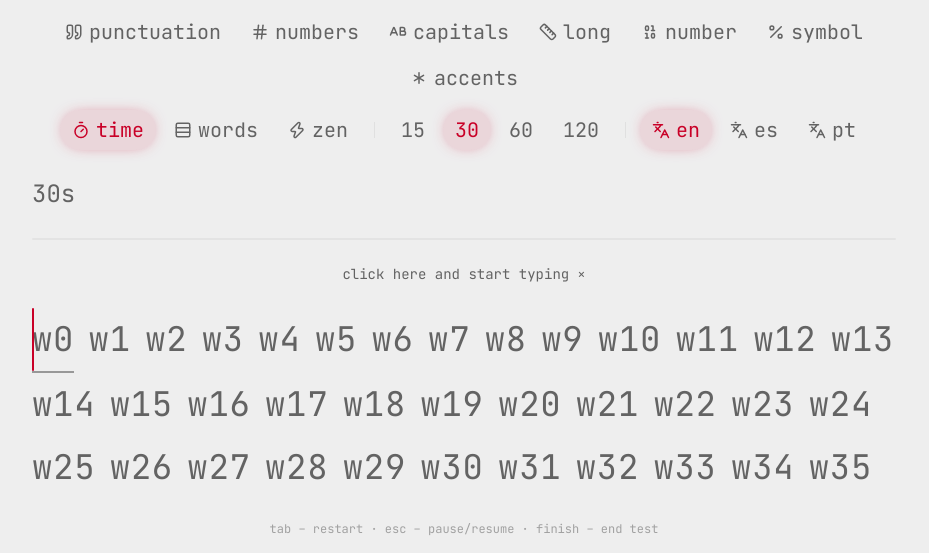
Test: TypingTest › jumps back to the previous word when pressing Backspace on an empty input
Click the button "words": (216, 130) [162,110,270,150]
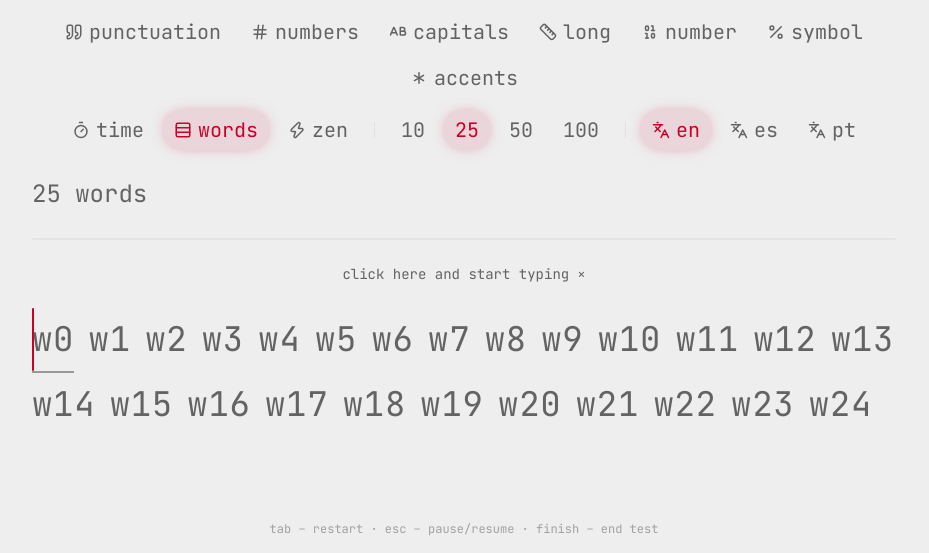
Click the button "10": (413, 130) [389,110,437,150]
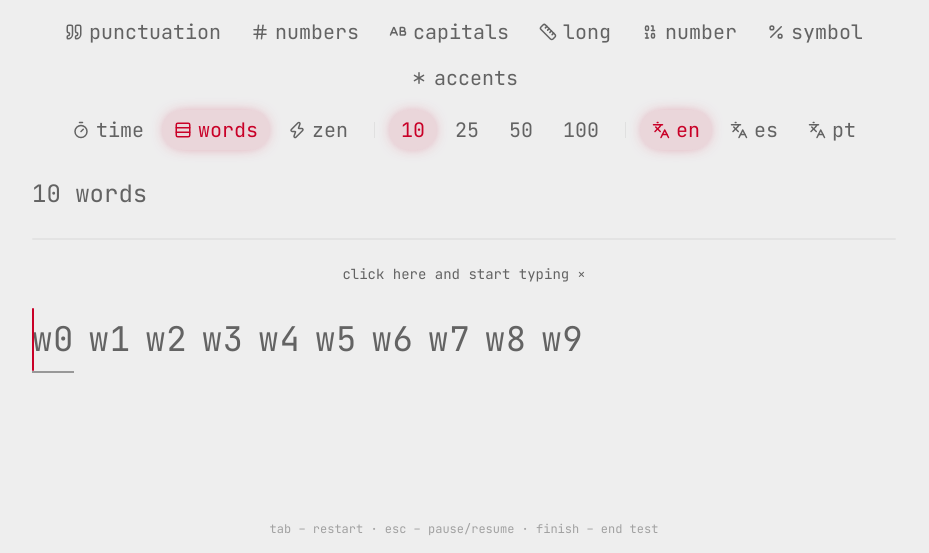
Type keys "w0 "
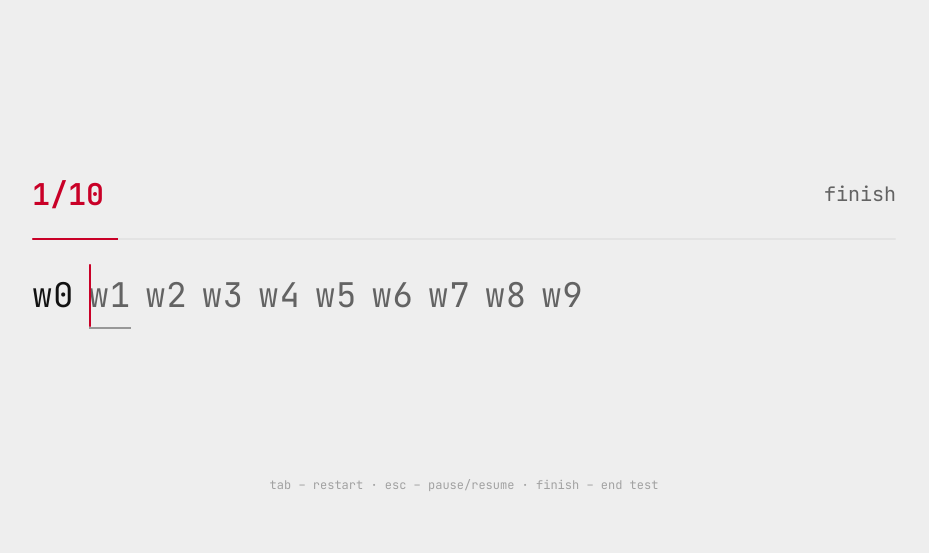
Now the text "1/10" is shown, box [32,179,104,209]
Press Backspace
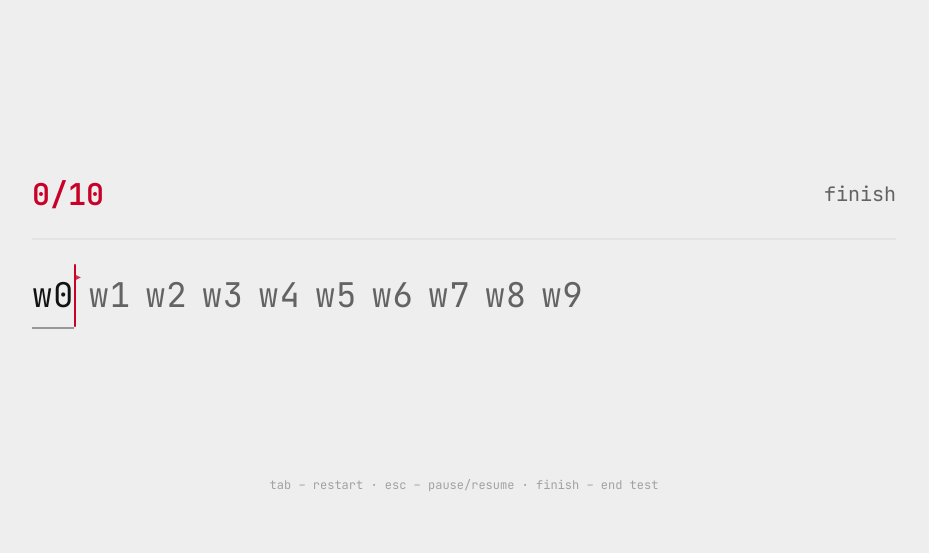
Now the text "0/10" is shown, box [32,179,104,209]
